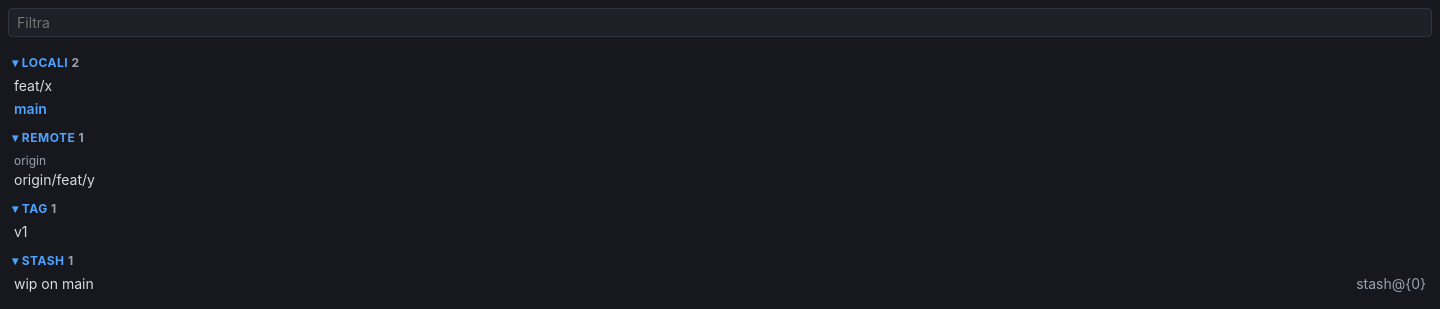
LeftPanel › filters by name
This screenshot has width=1440, height=309.
Type "feat" into the field named "Filtra riferimenti" at x=720, y=22, box left=8, top=8, right=1432, bottom=37
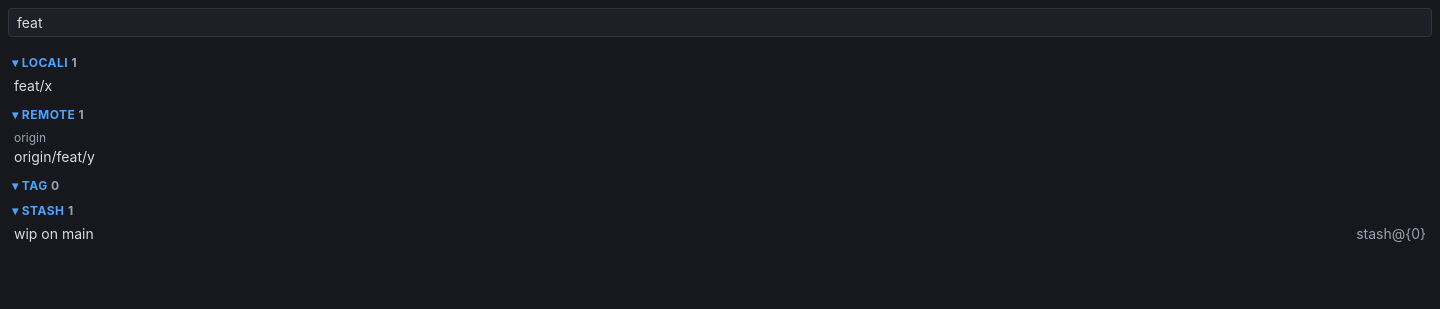
Expected: the text "feat/x" is shown, left=14, top=77, right=52, bottom=94
Expected: the text "v1" is gone
